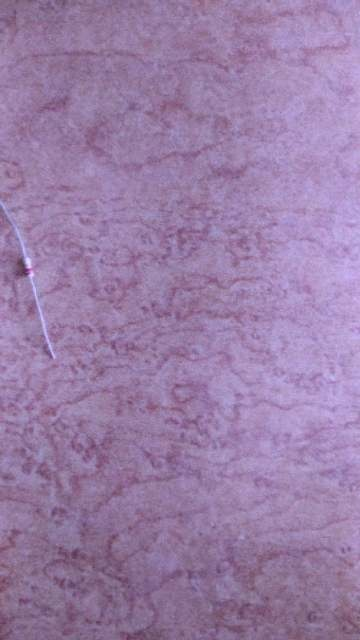resistor: (23, 257, 34, 277)
